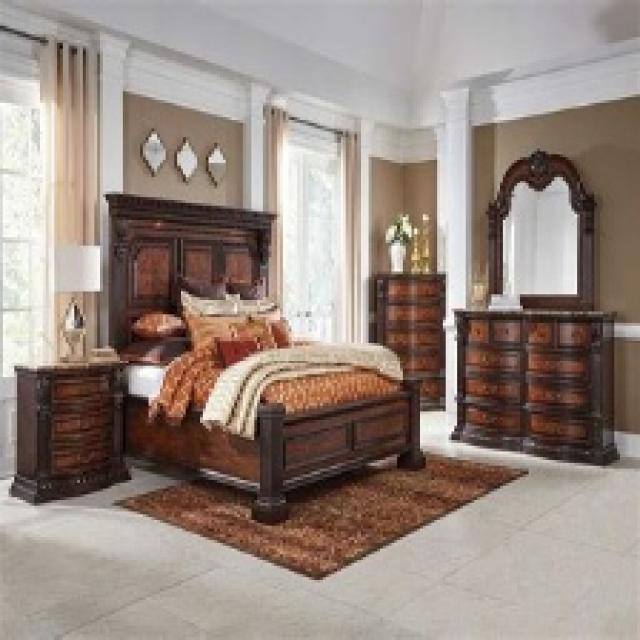Bed: (100, 191, 426, 523)
